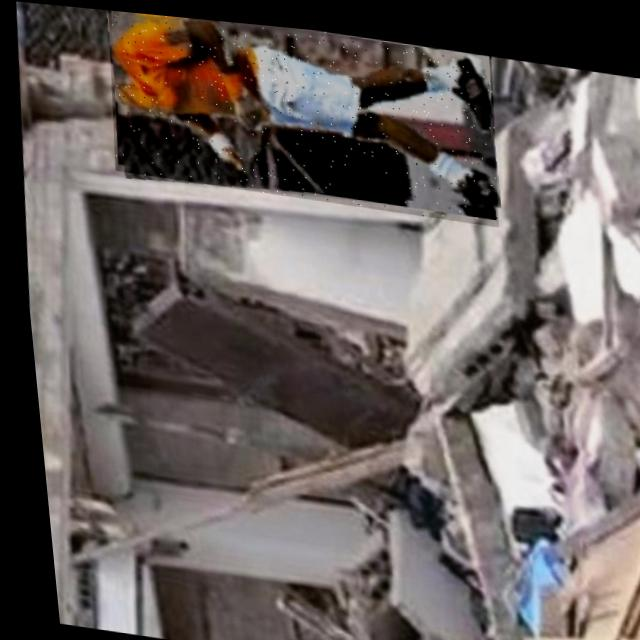Person in Rubble: (100, 8, 504, 217)
